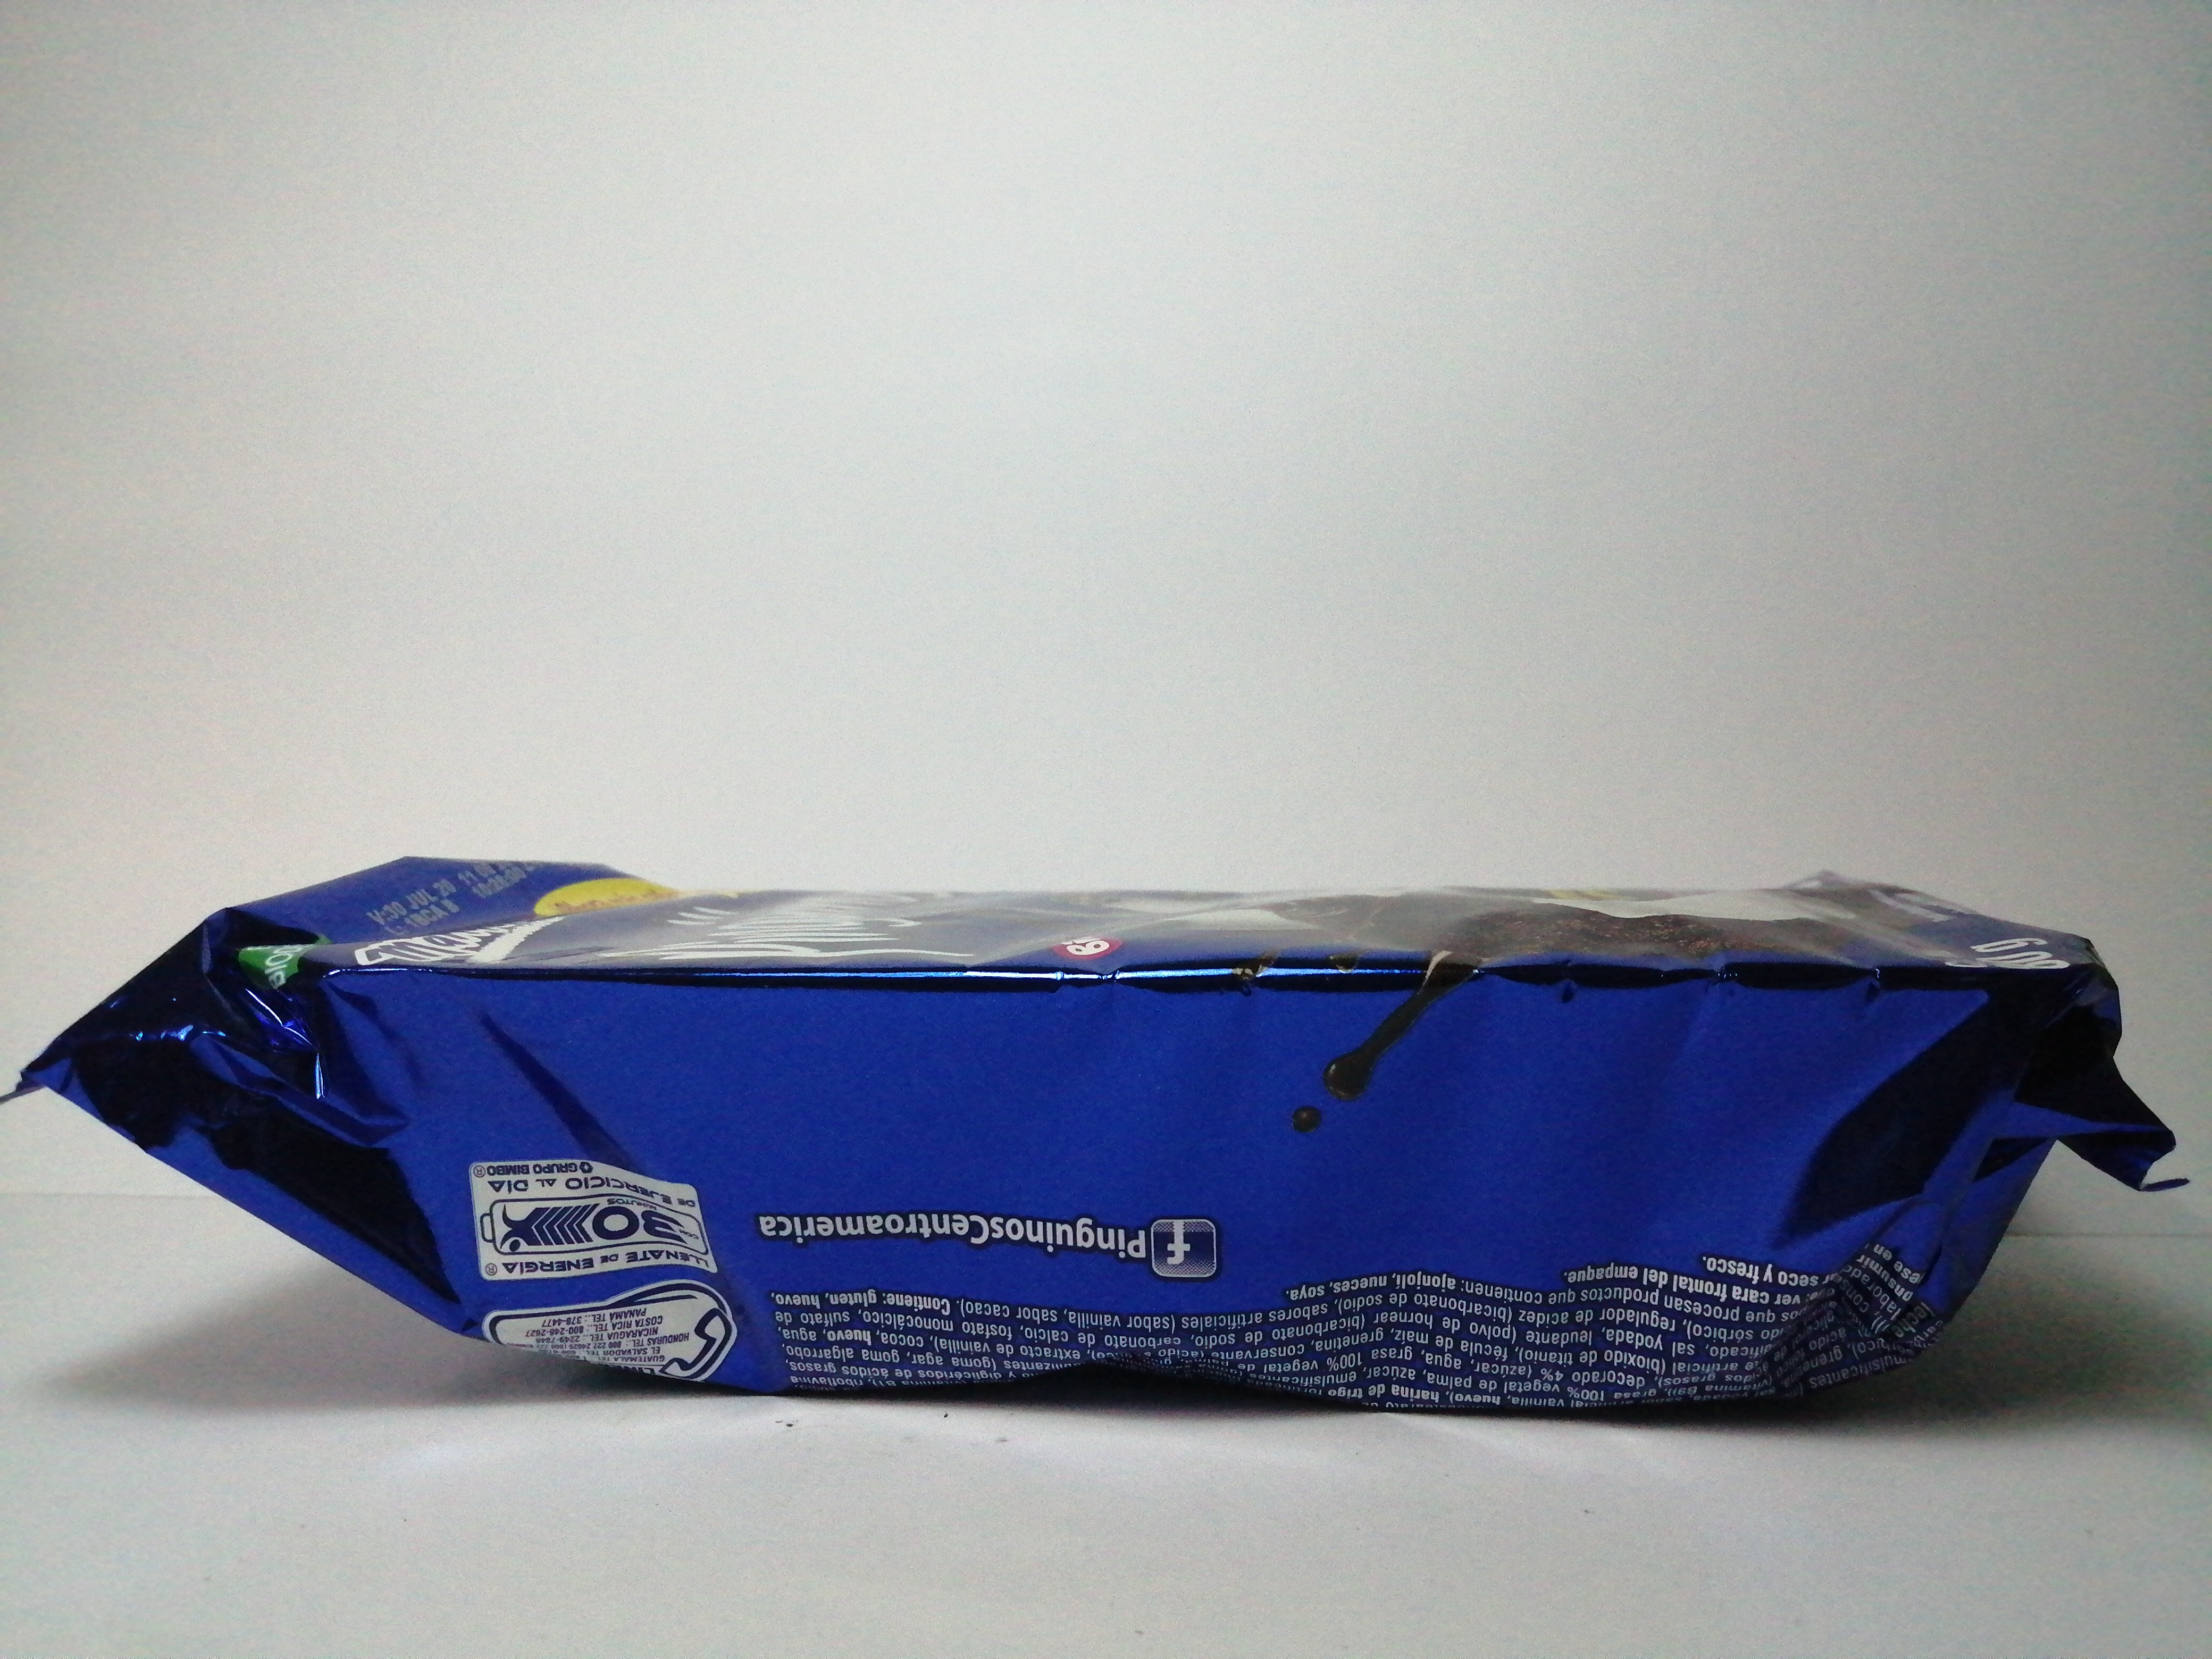pinguino: (9, 863, 2158, 1417)
